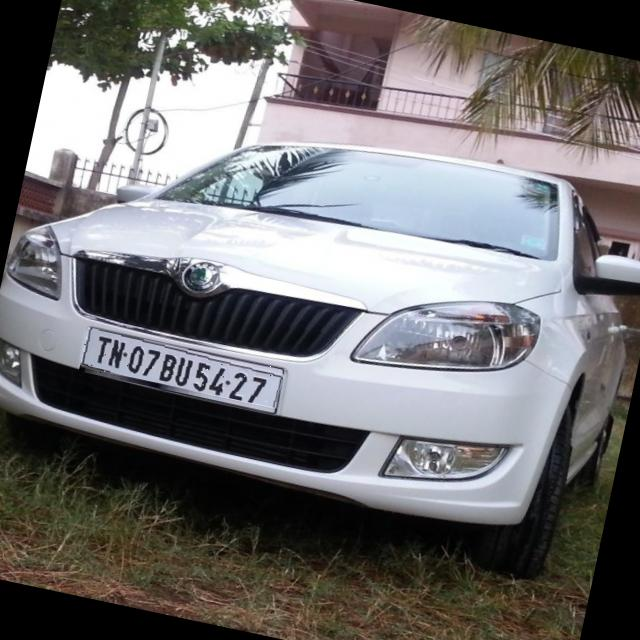Plate: (79, 329, 286, 414)
